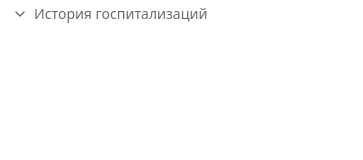
Test: PreviousHospitalizations › shows an error instead of failing silently
This screenshot has width=363, height=160.
Click the button "История госпитализаций" at (110, 14), box [12, 4, 208, 24]
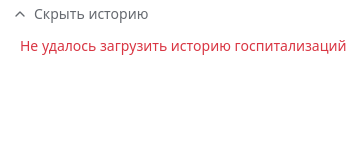
Check: the text "Не удалось загрузить историю госпитализаций" is shown, box [20, 36, 347, 55]
